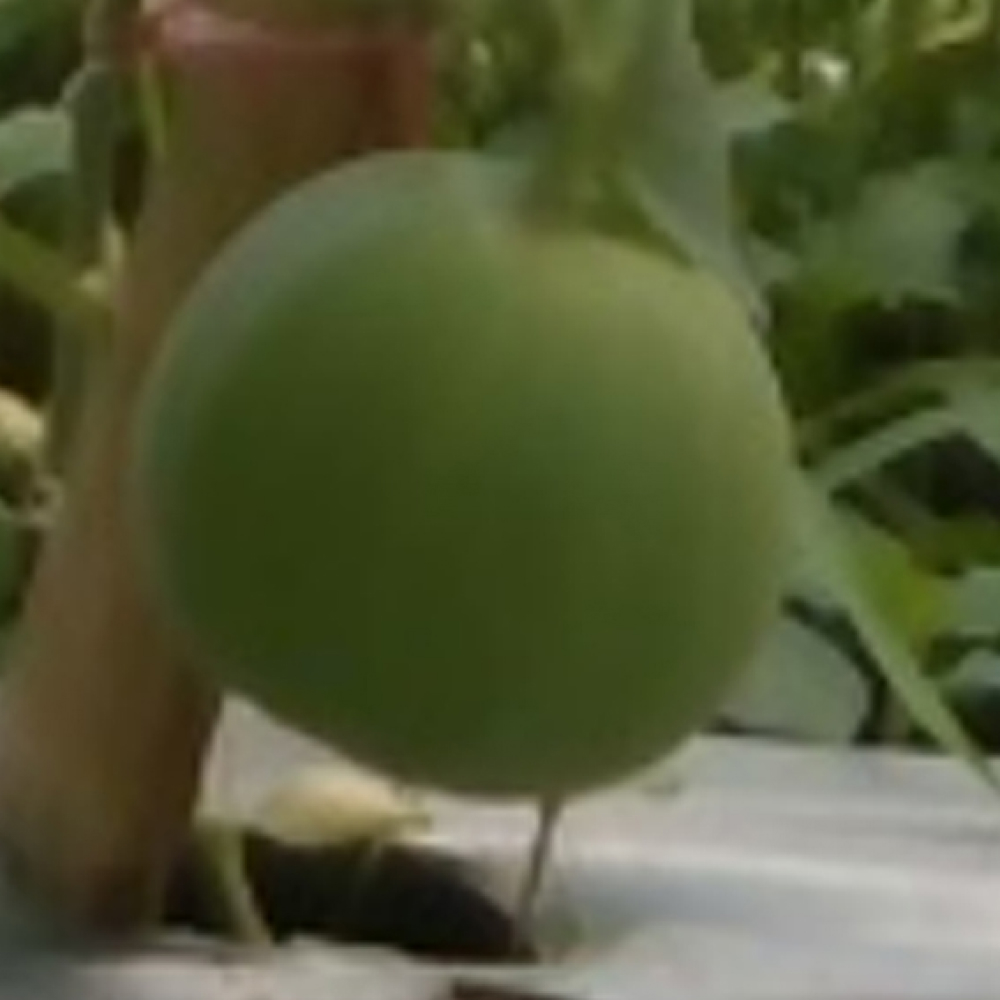melon: (123, 144, 800, 808)
